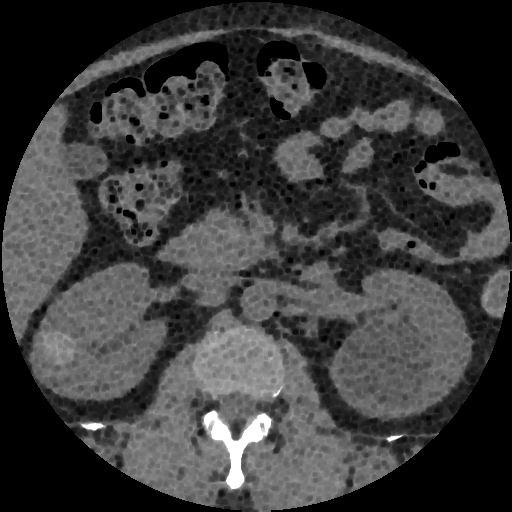Lesion: (32, 330, 76, 368)
